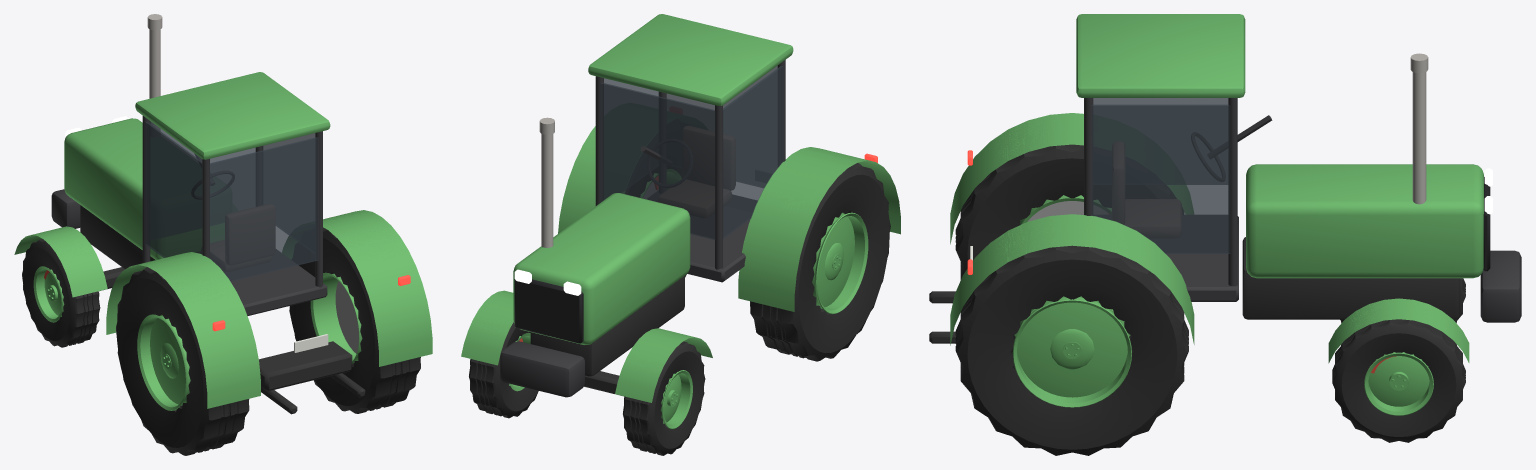
File: t_tractor.glb
3 renders of one model, left to right at view 1: azimuth 30°, elevation 25°; view 2: azimuth 150°, elevation 25°; view 3: azimuth 270°, elevation 25°, orthographic. The views are drawn at different scales.
Parts seen in each view (by area): view 1: Glass.006, Fenders_Rear, Wheel_RL.006, Wheel_RR.006, CabRoof, Body.006, Wheel_FL.006, CabFloor, Hitch, CabPosts, Interior.006, Fenders_Front (+3 smaller); view 2: Glass.006, Wheel_RL.006, Body.006, Fenders_Rear, CabRoof, Wheel_FL.006, Fenders_Front, EngineBlock, CabPosts, Interior.006, FrontWeights, Grille.005 (+6 smaller); view 3: Wheel_RR.006, Body.006, Glass.006, CabRoof, Wheel_FR.006, Fenders_Rear, Wheel_RL.006, EngineBlock, CabFloor, Interior.006, Fenders_Front, CabPosts (+4 smaller).
Part boxes in pixels (x1=…): Glass.006: x1=144, y1=121, x2=318, y2=281; Fenders_Rear: x1=106, y1=210, x2=432, y2=408; Wheel_RL.006: x1=116, y1=267, x2=249, y2=455; Wheel_RR.006: x1=289, y1=227, x2=420, y2=413; CabRoof: x1=135, y1=72, x2=330, y2=159; Body.006: x1=64, y1=118, x2=224, y2=259; Wheel_FL.006: x1=22, y1=239, x2=100, y2=347; CabFloor: x1=224, y1=249, x2=327, y2=315; Hitch: x1=259, y1=341, x2=365, y2=414; CabPosts: x1=142, y1=116, x2=322, y2=287; Interior.006: x1=201, y1=204, x2=275, y2=271; Fenders_Front: x1=14, y1=226, x2=107, y2=297; Glass.006: x1=600, y1=66, x2=783, y2=239; Wheel_RL.006: x1=750, y1=163, x2=890, y2=361; Body.006: x1=513, y1=193, x2=690, y2=344; Fenders_Rear: x1=558, y1=126, x2=900, y2=311; CabRoof: x1=588, y1=14, x2=793, y2=105; Wheel_FL.006: x1=623, y1=341, x2=705, y2=455; Fenders_Front: x1=461, y1=290, x2=712, y2=402; EngineBlock: x1=530, y1=275, x2=684, y2=376; CabPosts: x1=595, y1=60, x2=785, y2=269; Interior.006: x1=658, y1=126, x2=735, y2=218; FrontWeights: x1=500, y1=341, x2=584, y2=397; Grille.005: x1=514, y1=279, x2=583, y2=343; Wheel_RR.006: x1=955, y1=245, x2=1188, y2=455; Body.006: x1=1246, y1=164, x2=1483, y2=278; Glass.006: x1=1091, y1=98, x2=1230, y2=253; CabRoof: x1=1076, y1=14, x2=1245, y2=97; Wheel_FR.006: x1=1332, y1=319, x2=1465, y2=442; Fenders_Rear: x1=950, y1=113, x2=1194, y2=345; Wheel_RL.006: x1=955, y1=144, x2=1183, y2=279; EngineBlock: x1=1242, y1=237, x2=1460, y2=319; CabFloor: x1=1093, y1=215, x2=1238, y2=301; Interior.006: x1=1112, y1=141, x2=1181, y2=237; Fenders_Front: x1=1328, y1=298, x2=1469, y2=363; CabPosts: x1=1084, y1=98, x2=1237, y2=285.
Size of what is drawn, in the model's own units: 2.31 by 2.88 by 4.35.
